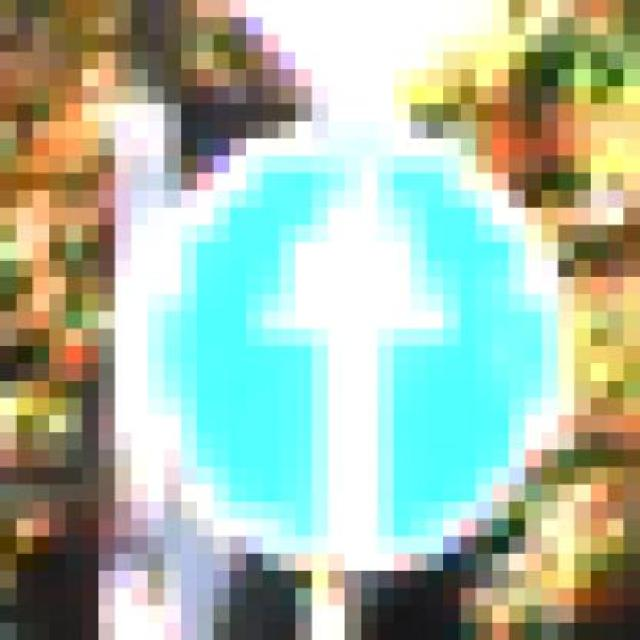Straight Ahead Only: (115, 104, 574, 588)
